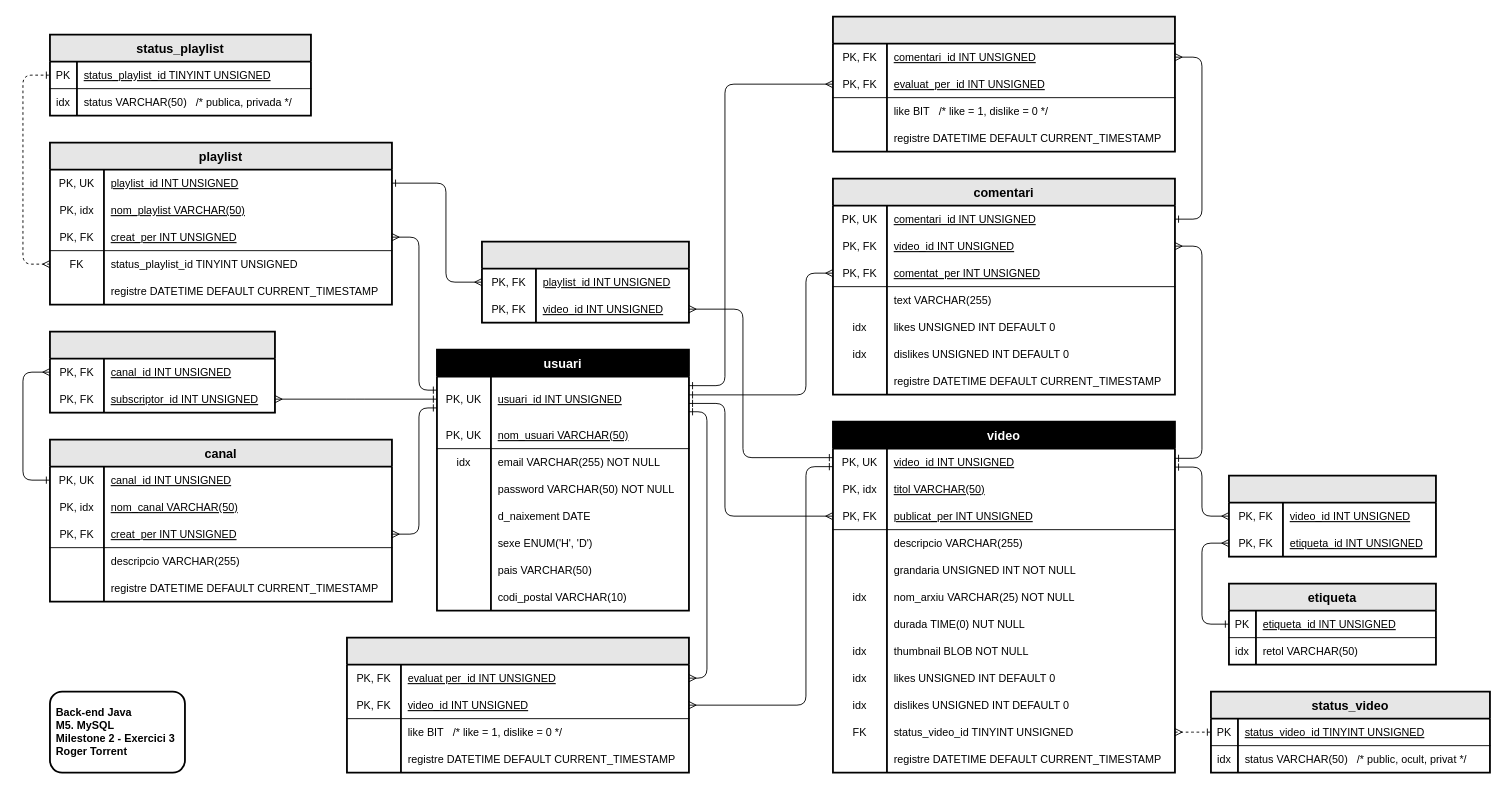
This 1507x788 diagram has some shape labels left out. The shapes that lost their labels are listed below. From the top down, each one's box as (x1, y1, x2, y2) in pixels, then its label:
(832, 15, 1175, 152): evaluacio_comentari
(481, 240, 689, 323): playlist_a_video
(49, 330, 275, 413): subscripcions
(1228, 474, 1436, 557): video_a_etiqueta
(346, 636, 689, 773): evaluacio_video
